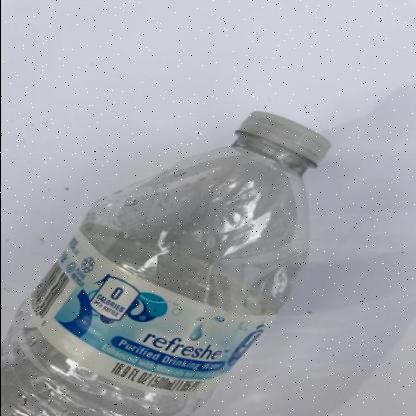Plastic Bottle: (0, 112, 330, 416)
